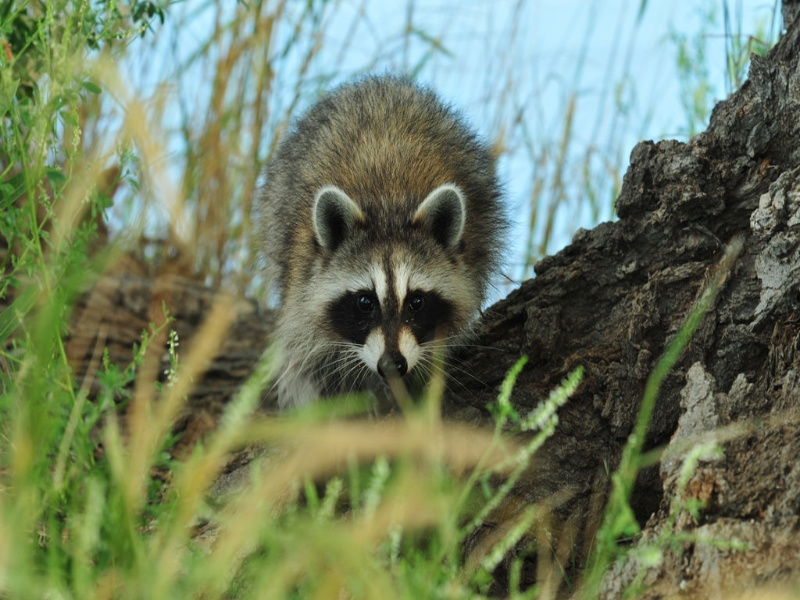raccoon: (252, 70, 508, 404)
